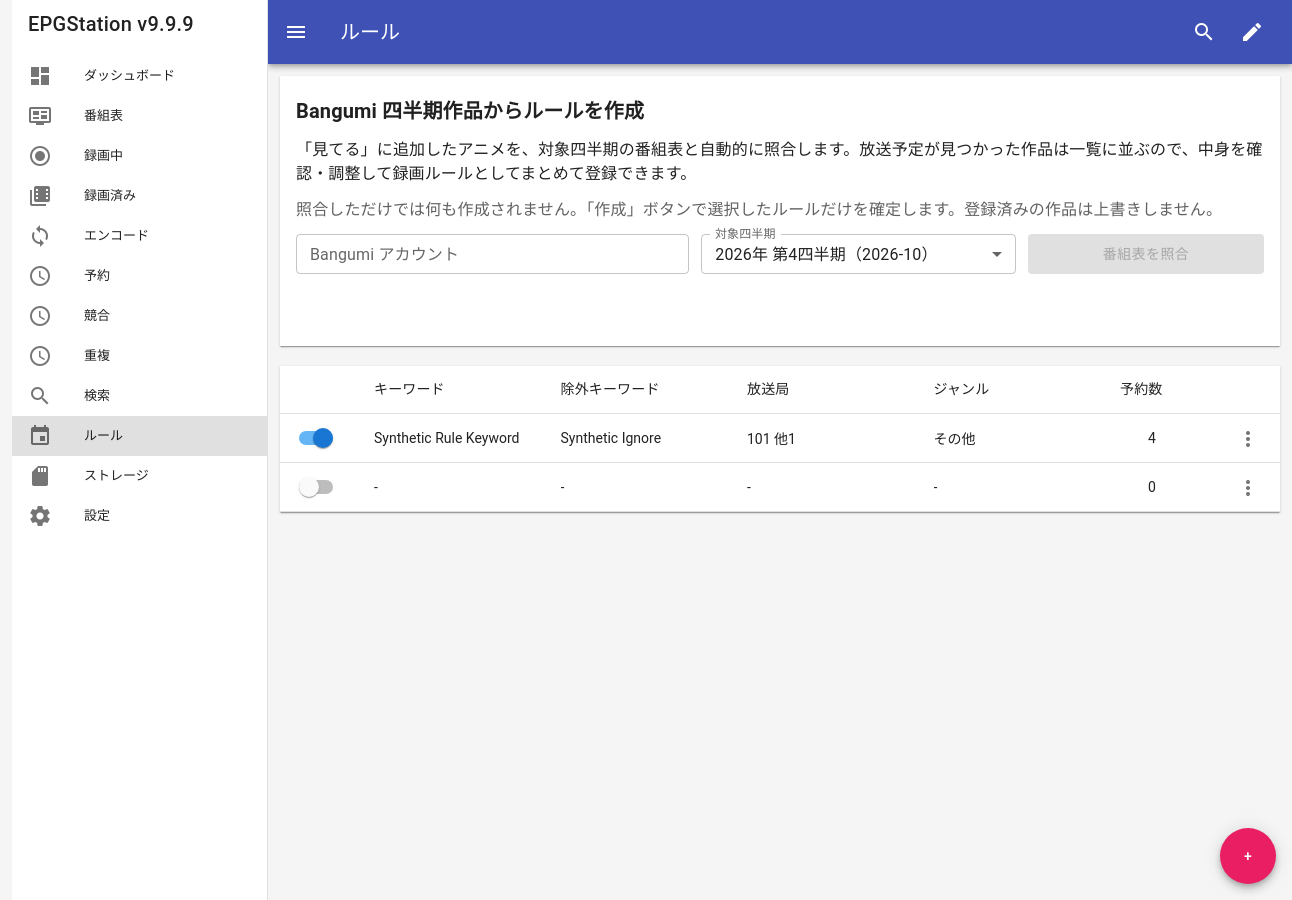
Rule list menus and edit mode › [AC 3.7][AC 3.16] hides the enable/disable switch once a row is in edit mode
Click the button named "ルールを編集" at (1252, 32), box 1228,8 -> 1276,56
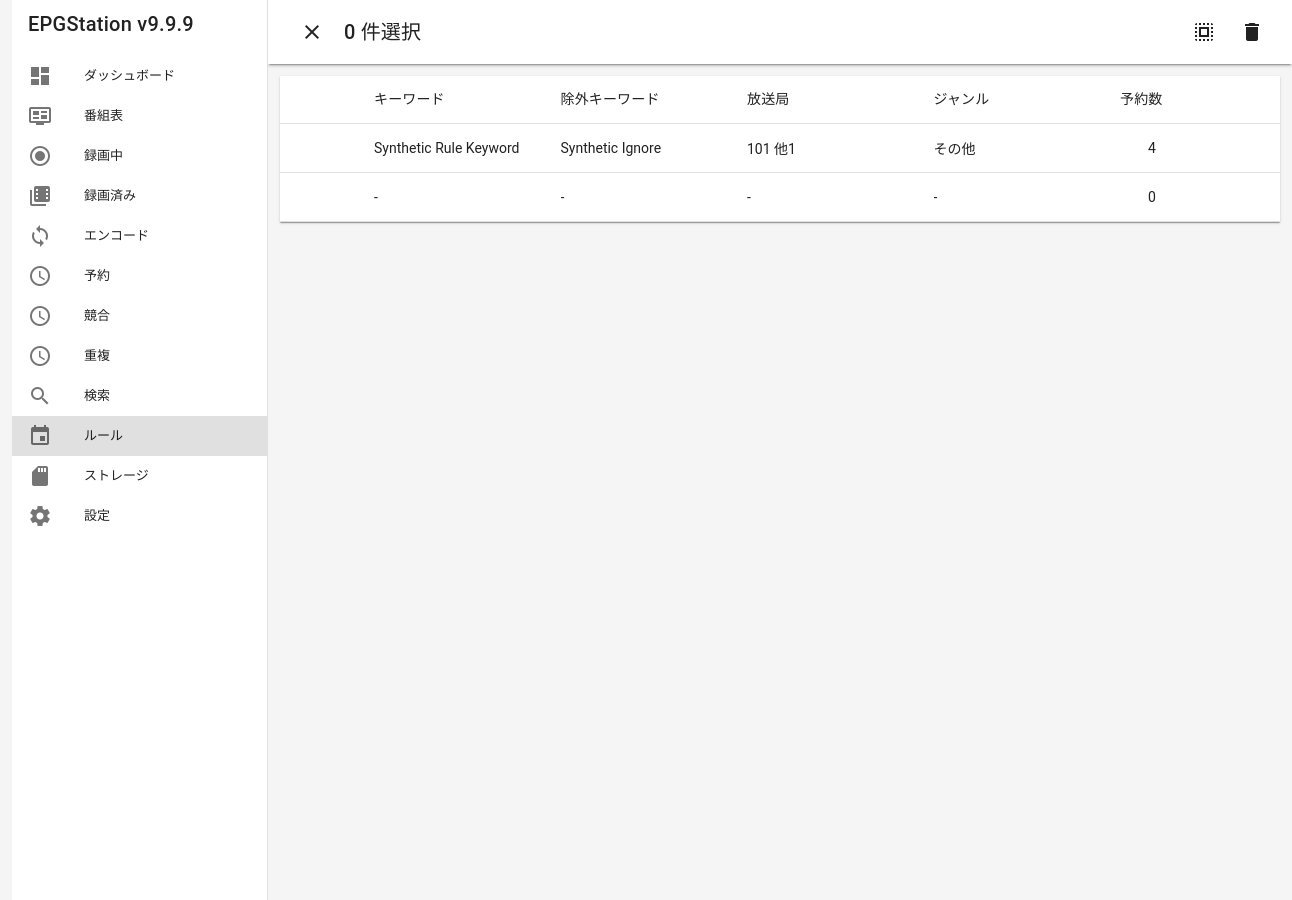
Result: the heading "0 件選択" is shown at 344,20 -> 421,44
